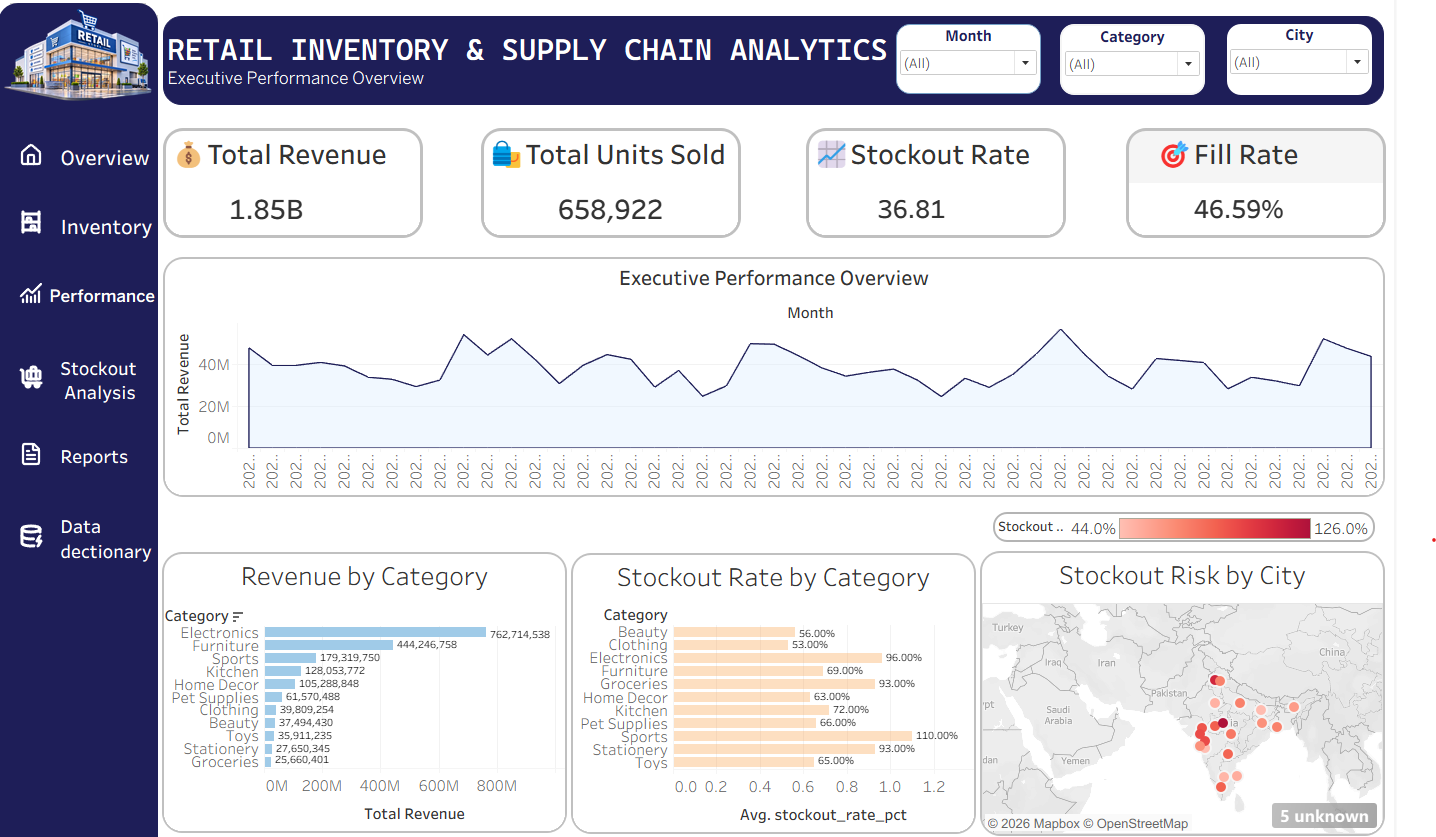

Layout of this report page (visuals, bound fields, positions):
{"tool":"tableau","page":{"name":"Retail Inventory & Supply Chain Analytics","canvas":[1400,900],"ordinal":1},"visuals":[{"type":"image","param":"C:/Users/sumer_idz14/Downloads/ChatGPT Image Aug 18, 2026, 01_57_03 PM.png","box":[7,6,153,106]},{"type":"image","param":"C:/Users/sumer_idz14/Documents/Projects ----/EV Charging Station Demand Analysis","box":[16,16,1368,868]},{"type":"text","box":[169,19,1221,89]},{"type":"filter","title":"Executive Performance Overview","param":"[federated.02hf0fc08j33zg1e41bme0dwy80j].[none:month:nk]","box":[897,22,155,80]},{"type":"filter","title":"Revenue by Category","param":"[federated.062l1l41enw07t108fr910so1ngt].[none:category:nk]","box":[1061,22,155,81]},{"type":"filter","title":"Stockout Risk by City","param":"[federated.0ufaq6i0nyh3ez1esy3gd18hnwsr].[attr:city:nk]","box":[1228,22,155,81]},{"type":"text","box":[63,130,113,60]},{"type":"worksheet","title":"Total Revenue","mark":"Automatic","box":[169,131,260,110]},{"type":"worksheet","title":"Total Units Sold","mark":"Automatic","box":[487,131,260,110]},{"type":"worksheet","title":"Stockout Rate","mark":"Automatic","box":[812,131,260,110]},{"type":"worksheet","title":"Fill Rate","mark":"Automatic","box":[1132,131,260,110]},{"type":"image","param":"C:/Users/sumer_idz14/Documents/Projects ----/EV Charging Station Demand Analysis","box":[25,146,24,24]},{"type":"text","box":[63,197,99,64]},{"type":"image","param":"C:/Users/sumer_idz14/Downloads/shelving-unit.png","box":[25,213,24,24]},{"type":"worksheet","title":"Executive Performance Overview","mark":"Area","rows":["total_revenue"],"cols":["month"],"box":[169,260,1222,240]},{"type":"text","box":[52,273,117,52]},{"type":"image","param":"C:/Users/sumer_idz14/Documents/Projects ----/EV Charging Station Demand Analysis","box":[25,284,24,24]},{"type":"text","box":[63,351,110,64]},{"type":"image","param":"C:/Users/sumer_idz14/Downloads/baggage-claim.png","box":[25,368,24,24]},{"type":"text","box":[63,430,108,58]},{"type":"image","param":"C:/Users/sumer_idz14/Documents/Projects ----/EV Charging Station Demand Analysis","box":[25,445,24,24]},{"type":"text","box":[63,500,108,83]},{"type":"legend","title":"Stockout Risk by City","param":"[federated.0ufaq6i0nyh3ez1esy3gd18hnwsr].[sum:stockout_rate_pct:qk]","box":[999,515,382,30]},{"type":"image","param":"C:/Users/sumer_idz14/Downloads/database-zap.png","box":[25,527,24,24]},{"type":"worksheet","title":"Stockout Risk by City","mark":"Automatic","box":[986,554,405,285]},{"type":"worksheet","title":"Revenue by Category","mark":"Automatic","rows":["category"],"cols":["total_revenue"],"box":[168,555,405,281]},{"type":"worksheet","title":"Stockout Rate by Category","mark":"Automatic","rows":["category"],"cols":["stockout_rate_pct"],"box":[577,556,405,281]}]}

Visuals, with their boxes on the page's 1400x900 design canvas (x1, y1, x2, y2). These are canvas units, not pixel positions in the 1436x837 screenshot, which may show the page scaled, cropped or inside an application window:
image: (x1=7, y1=6, x2=160, y2=112)
image: (x1=16, y1=16, x2=1384, y2=884)
text: (x1=169, y1=19, x2=1390, y2=108)
"Executive Performance Overview" filter: (x1=897, y1=22, x2=1052, y2=102)
"Revenue by Category" filter: (x1=1061, y1=22, x2=1216, y2=103)
"Stockout Risk by City" filter: (x1=1228, y1=22, x2=1383, y2=103)
text: (x1=63, y1=130, x2=176, y2=190)
"Total Revenue" worksheet: (x1=169, y1=131, x2=429, y2=241)
"Total Units Sold" worksheet: (x1=487, y1=131, x2=747, y2=241)
"Stockout Rate" worksheet: (x1=812, y1=131, x2=1072, y2=241)
"Fill Rate" worksheet: (x1=1132, y1=131, x2=1392, y2=241)
image: (x1=25, y1=146, x2=49, y2=170)
text: (x1=63, y1=197, x2=162, y2=261)
image: (x1=25, y1=213, x2=49, y2=237)
"Executive Performance Overview" worksheet (Area marks): (x1=169, y1=260, x2=1391, y2=500)
text: (x1=52, y1=273, x2=169, y2=325)
image: (x1=25, y1=284, x2=49, y2=308)
text: (x1=63, y1=351, x2=173, y2=415)
image: (x1=25, y1=368, x2=49, y2=392)
text: (x1=63, y1=430, x2=171, y2=488)
image: (x1=25, y1=445, x2=49, y2=469)
text: (x1=63, y1=500, x2=171, y2=583)
"Stockout Risk by City" legend: (x1=999, y1=515, x2=1381, y2=545)
image: (x1=25, y1=527, x2=49, y2=551)
"Stockout Risk by City" worksheet: (x1=986, y1=554, x2=1391, y2=839)
"Revenue by Category" worksheet: (x1=168, y1=555, x2=573, y2=836)
"Stockout Rate by Category" worksheet: (x1=577, y1=556, x2=982, y2=837)
